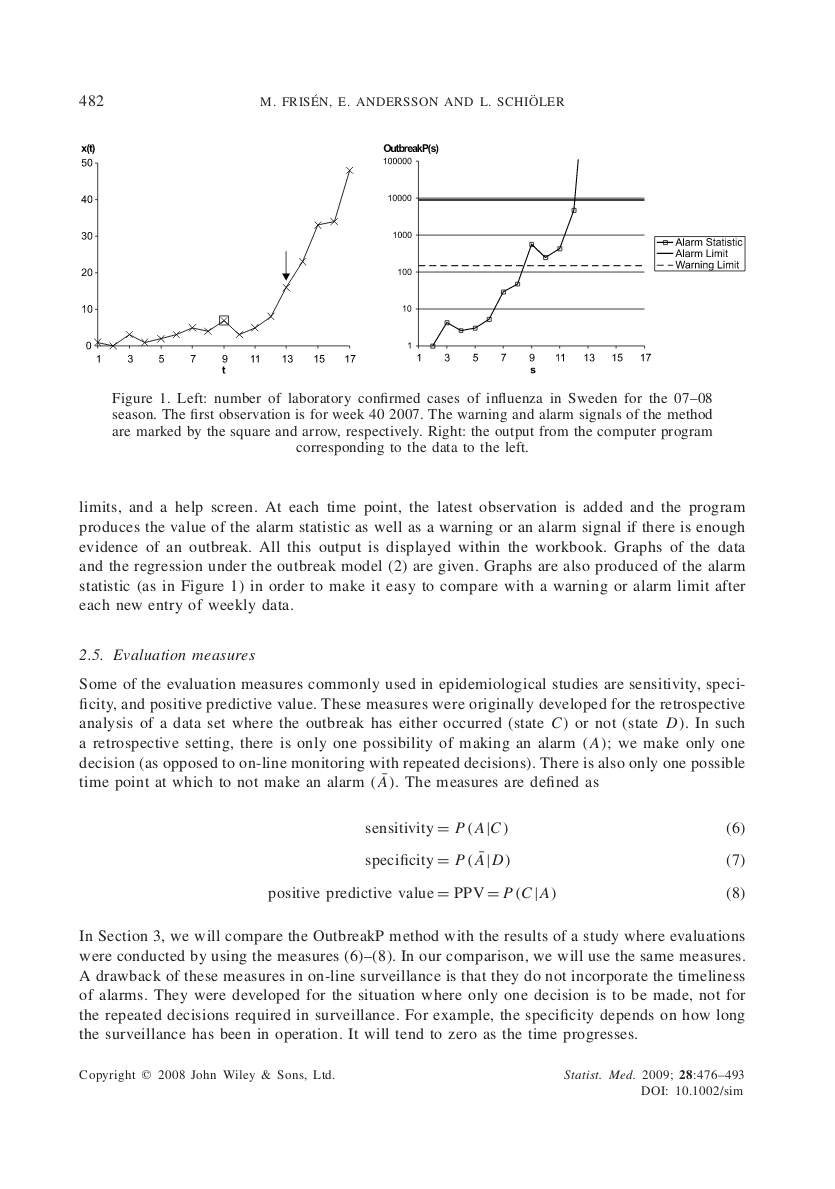figure: (81, 144, 355, 373), (383, 144, 650, 373), (654, 236, 745, 271)
formula: (268, 885, 744, 902), (365, 850, 744, 869), (365, 821, 744, 837)
